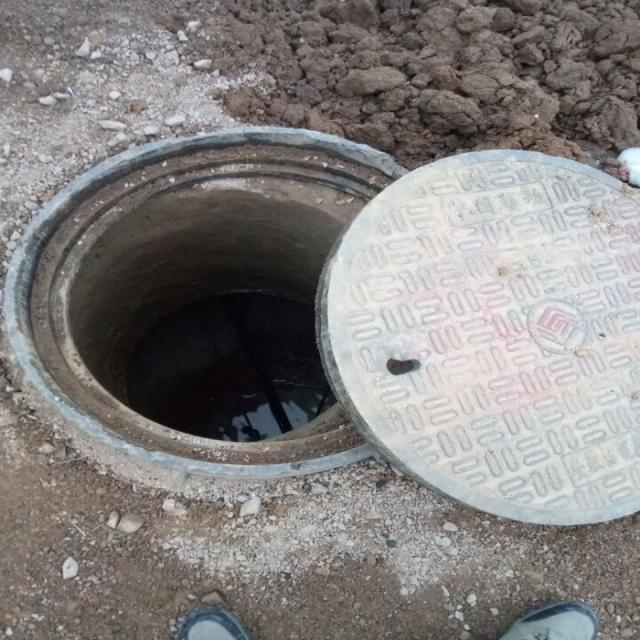Faulty: (1, 125, 638, 528)
